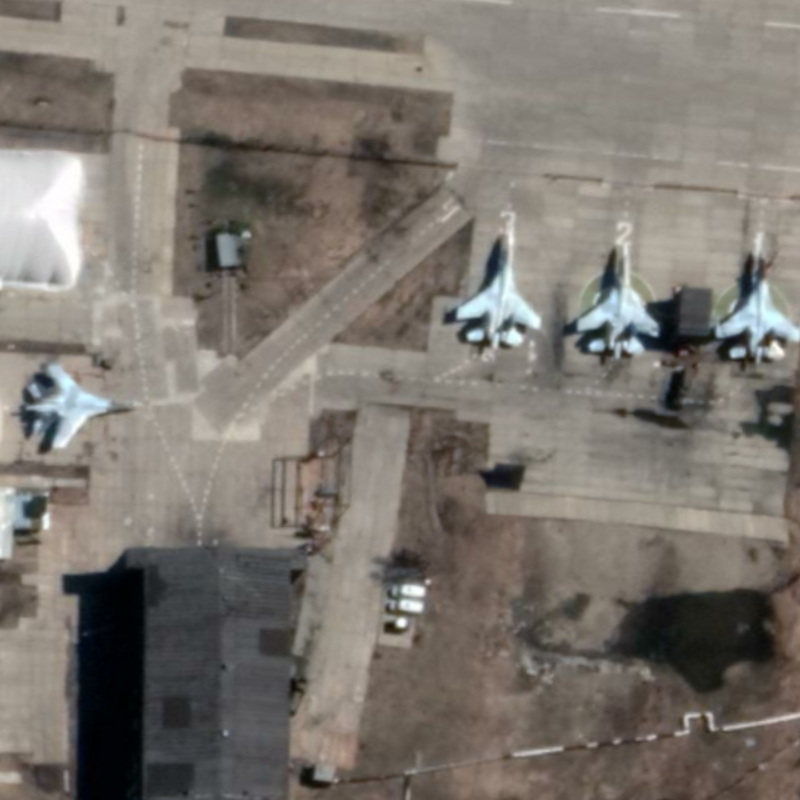A1: (451, 223, 545, 354), (18, 362, 147, 452), (570, 239, 663, 361), (710, 245, 800, 367)
